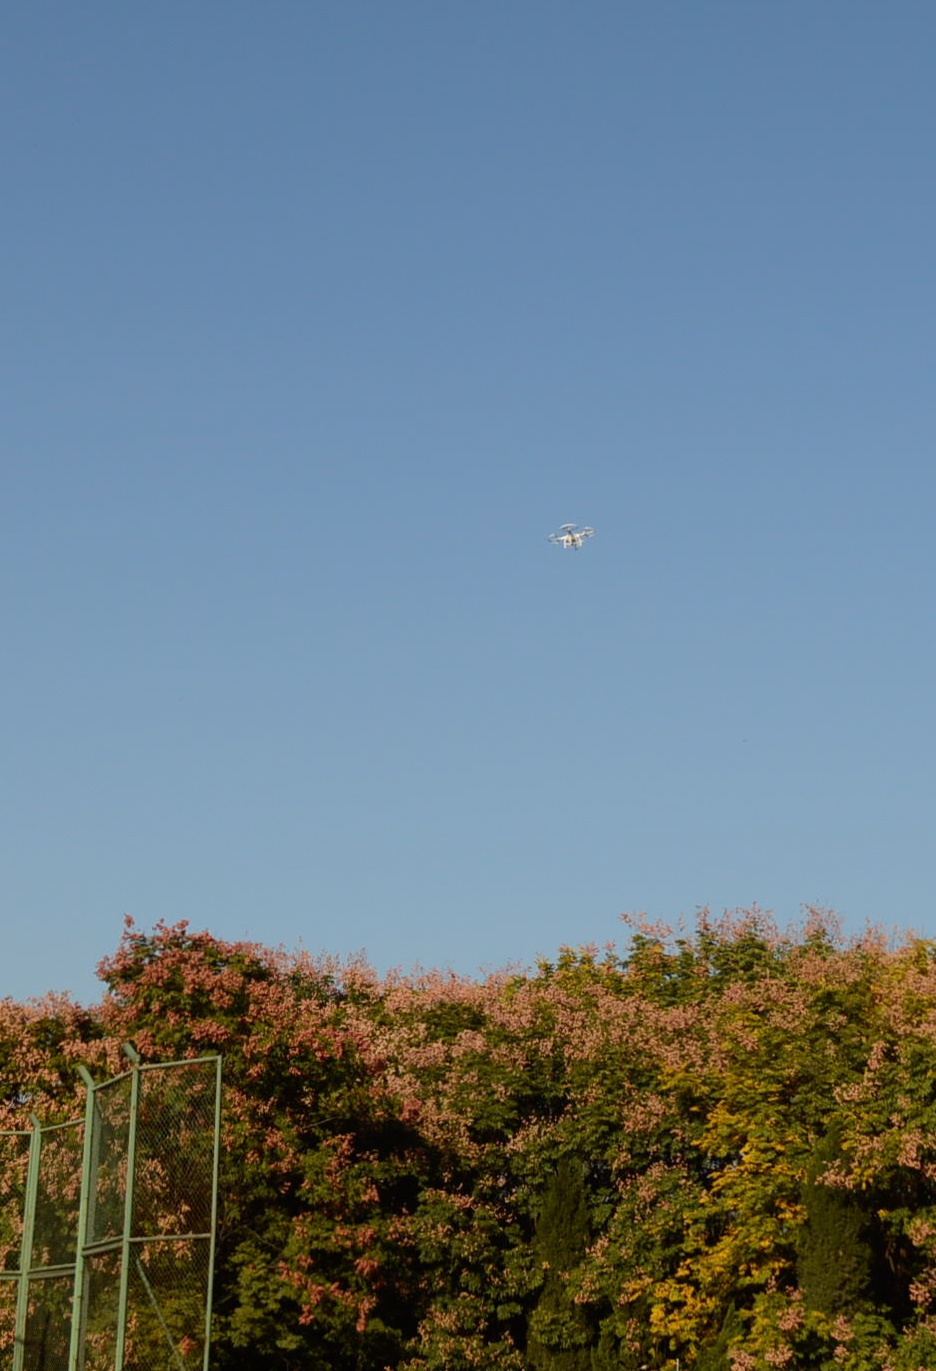DJI: (544, 523, 596, 551)
